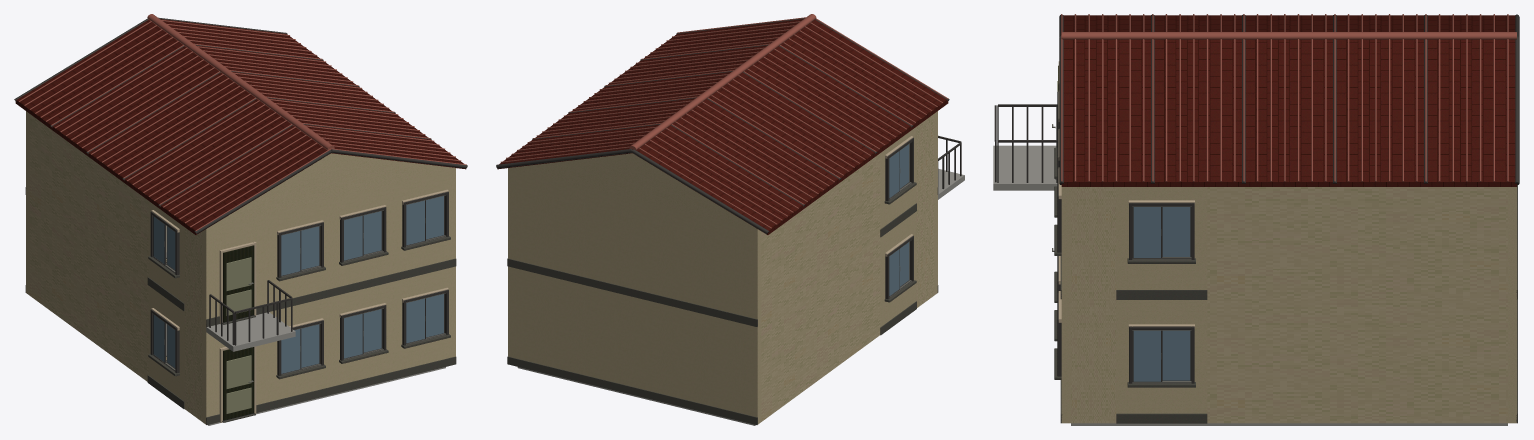
The model's file is MS_PF_01_TwoStoreyHouse.glb.
3 renders of one model, left to right at view 1: azimuth 30°, elevation 25°; view 2: azimuth 150°, elevation 25°; view 3: azimuth 270°, elevation 25°, orthographic. The views are drawn at different scales.
Visible parts, largest first — view 1: StaticBatch33, StaticBatch2, StaticBatch6, StaticBatch24, StaticBatch42, Plaster_0052, StaticBatch12, StaticBatch3, StaticBatch7, Plaster_005, StaticBatch14, StaticBatch25 (+31 smaller); view 2: StaticBatch33, StaticBatch2, StaticBatch6, StaticBatch24, StaticBatch42, StaticBatch12, StaticBatch4, StaticBatch8, StaticBatch25, Frame9, Frame4, StaticBatch3 (+5 smaller); view 3: StaticBatch33, StaticBatch2, StaticBatch6, StaticBatch24, StaticBatch12, StaticBatch14, StaticBatch3, StaticBatch7, Glass5, Glass_0015, Glass10, Glass_00110 (+4 smaller).
Boxes of the visible parts, left/top/right/bottom form: StaticBatch33: left=15, top=19, right=465, bottom=234; StaticBatch2: left=26, top=195, right=455, bottom=421; StaticBatch6: left=26, top=111, right=455, bottom=323; StaticBatch24: left=19, top=14, right=466, bottom=230; StaticBatch42: left=207, top=153, right=454, bottom=228; Plaster_0052: left=202, top=213, right=268, bottom=326; StaticBatch12: left=14, top=17, right=467, bottom=233; StaticBatch3: left=147, top=334, right=456, bottom=409; StaticBatch7: left=147, top=236, right=456, bottom=311; Plaster_005: left=202, top=324, right=268, bottom=424; StaticBatch14: left=206, top=312, right=295, bottom=351; StaticBatch25: left=209, top=280, right=292, bottom=345; StaticBatch33: left=497, top=19, right=948, bottom=234; StaticBatch2: left=508, top=198, right=934, bottom=424; StaticBatch6: left=508, top=114, right=934, bottom=326; StaticBatch24: left=500, top=14, right=948, bottom=228; StaticBatch42: left=509, top=153, right=756, bottom=228; StaticBatch12: left=496, top=18, right=949, bottom=233; StaticBatch4: left=507, top=356, right=757, bottom=424; StaticBatch8: left=507, top=258, right=757, bottom=326; StaticBatch25: left=938, top=135, right=961, bottom=188; Frame9: left=885, top=137, right=913, bottom=201; Frame4: left=885, top=235, right=913, bottom=299; StaticBatch3: left=880, top=280, right=916, bottom=335; StaticBatch33: left=1061, top=15, right=1516, bottom=186; StaticBatch2: left=1061, top=299, right=1516, bottom=423; StaticBatch6: left=1061, top=187, right=1516, bottom=299; StaticBatch24: left=1061, top=14, right=1516, bottom=181; StaticBatch12: left=1059, top=14, right=1519, bottom=184; StaticBatch14: left=993, top=145, right=1057, bottom=190; StaticBatch3: left=1054, top=271, right=1207, bottom=423; StaticBatch7: left=1054, top=147, right=1207, bottom=299; Glass5: left=1162, top=330, right=1190, bottom=380; Glass_0015: left=1133, top=330, right=1160, bottom=381; Glass10: left=1162, top=207, right=1190, bottom=256; Glass_00110: left=1133, top=207, right=1160, bottom=257.
Bounding box in the file's own units: 8.73 × 7.77 × 11.56.
Materials: 22 (6 with a texture image).
